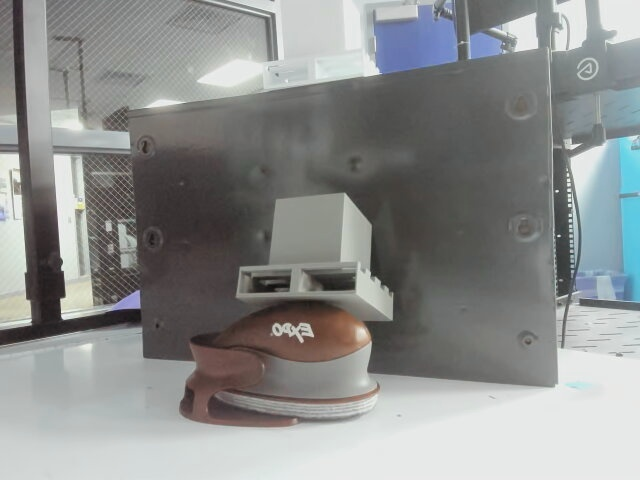grey pallet: (231, 186, 399, 326)
white pallet: (261, 2, 393, 94)
